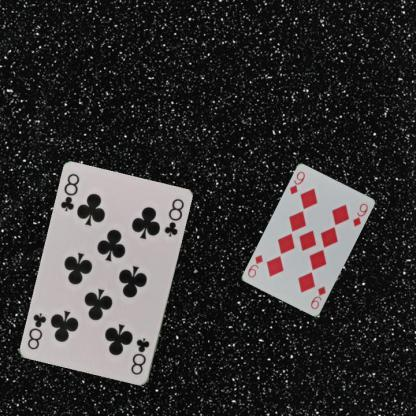8c: (58, 171, 81, 213), (128, 335, 150, 377)
9d: (308, 284, 327, 311), (287, 169, 306, 196)
